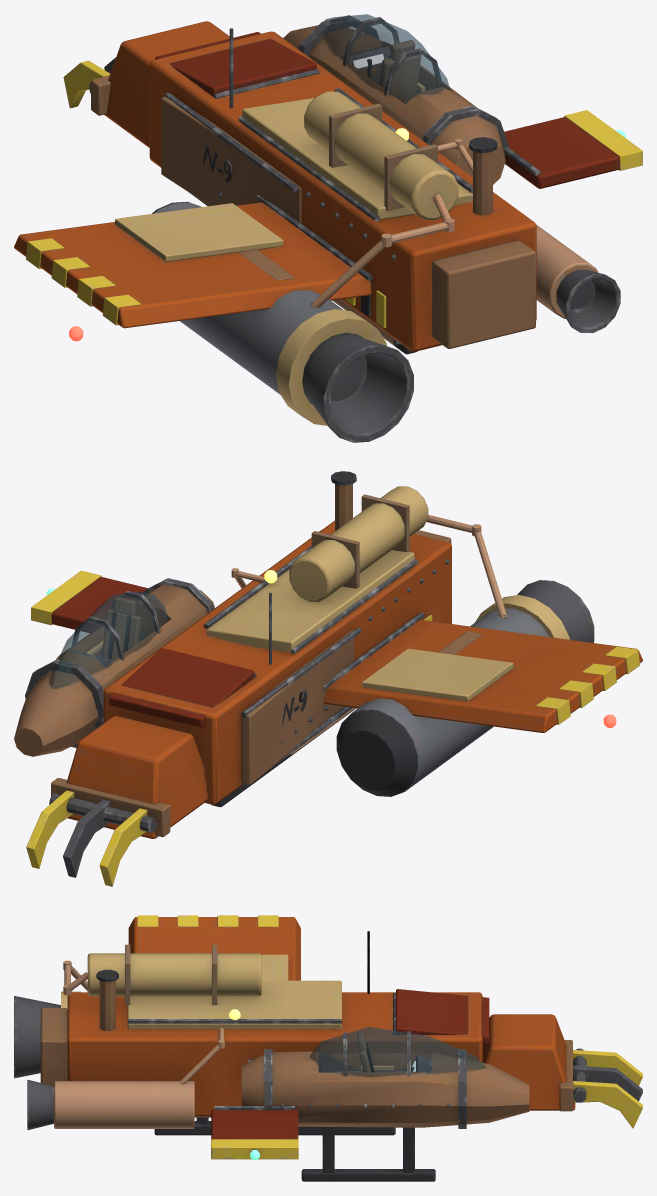
Rendered from welder.glb.
3 renders of one model, top to bottom at view 1: azimuth 30°, elevation 25°; view 2: azimuth 150°, elevation 25°; view 3: azimuth 270°, elevation 25°, orthographic. The views are drawn at different scales.
Visible parts, largest first — view 1: hull, glass; view 2: hull, glass; view 3: hull, glass.
Boxes of the visible parts, left/top/right/bottom form: hull: left=14, top=15, right=642, bottom=442; glass: left=324, top=14, right=450, bottom=104; hull: left=14, top=471, right=642, bottom=886; glass: left=49, top=591, right=168, bottom=688; hull: left=14, top=915, right=642, bottom=1181; glass: left=310, top=1027, right=485, bottom=1076.
Bounding box in the file's own units: 8.01 × 3.05 × 9.4.
15 materials, 11 textured.
